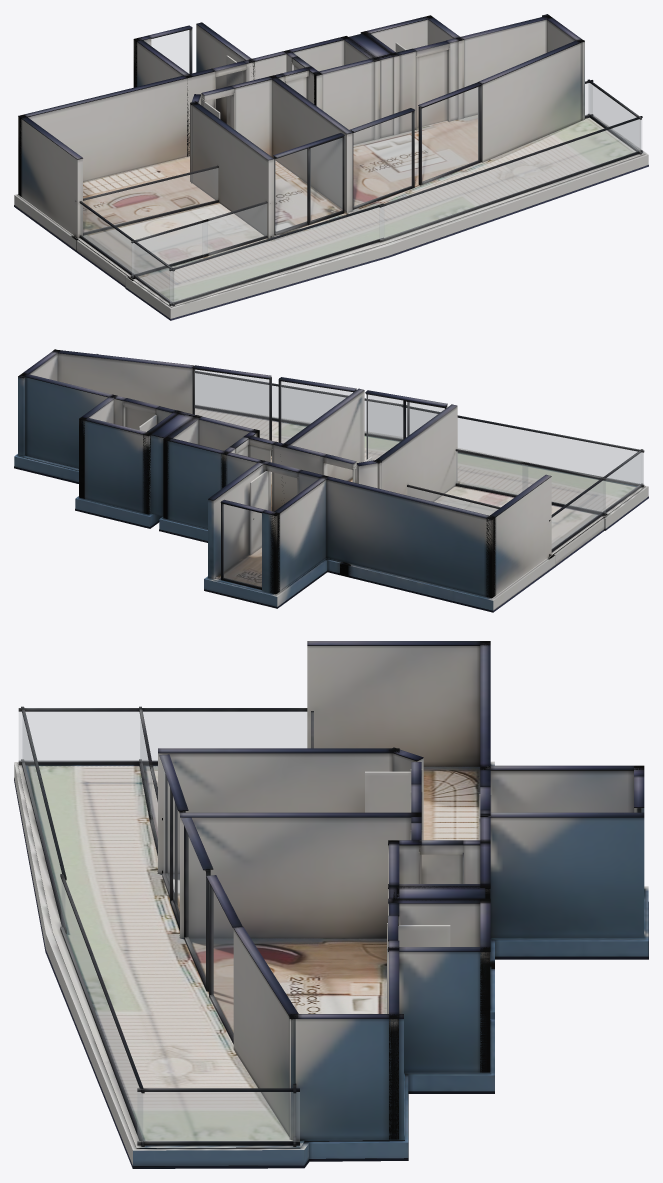
The picture shows the model from 3 angles, top to bottom: view 1: azimuth 30°, elevation 25°; view 2: azimuth 150°, elevation 25°; view 3: azimuth 270°, elevation 25°; orthographic projection. The views are drawn at different scales.
Parts seen in each view (by area): view 1: plan, railg7_m, railg8_m, glass2_m, glass0_m, glass1_m, railg0_m, railg4_m, railg6_m, railg5_m, railg2_m, glass3_m; view 2: plan, railg8_m, railg7_m, glass1_m, glass3_m, railg4_m, glass2_m, glass0_m, railg5_m, railg6_m, railg0_m; view 3: plan, railg4_m, railg2_m, railg7_m, glass1_m, glass0_m, railg8_m, glass2_m.
Part boxes in pixels (box(x1,y1,x2,y2)): plan: box(14, 14, 648, 320); railg7_m: box(380, 119, 641, 239); railg8_m: box(170, 207, 383, 303); glass2_m: box(275, 138, 342, 232); glass0_m: box(353, 112, 411, 206); glass1_m: box(422, 87, 479, 181); railg0_m: box(83, 168, 217, 232); railg4_m: box(80, 204, 173, 303); railg6_m: box(132, 222, 207, 275); railg5_m: box(202, 204, 266, 254); railg2_m: box(589, 83, 640, 151); glass3_m: box(151, 30, 189, 73); plan: box(14, 349, 648, 612); railg8_m: box(402, 408, 643, 484); railg7_m: box(195, 373, 401, 438); glass1_m: box(195, 370, 268, 439); glass3_m: box(223, 504, 261, 587); railg4_m: box(552, 453, 641, 548); glass2_m: box(366, 394, 444, 459); glass0_m: box(281, 381, 352, 442); railg5_m: box(456, 451, 527, 494); railg6_m: box(522, 464, 605, 512); railg0_m: box(407, 487, 497, 515); plan: box(14, 641, 648, 1168); railg4_m: box(19, 712, 306, 761); railg2_m: box(137, 1092, 299, 1141); railg7_m: box(61, 880, 142, 1141); glass1_m: box(211, 887, 233, 1035); glass0_m: box(186, 832, 205, 981); railg8_m: box(22, 716, 64, 926); glass2_m: box(164, 771, 179, 917).
Bounding box in the file's own units: 15.57 × 2.62 × 10.72.
2 materials, 1 textured.
